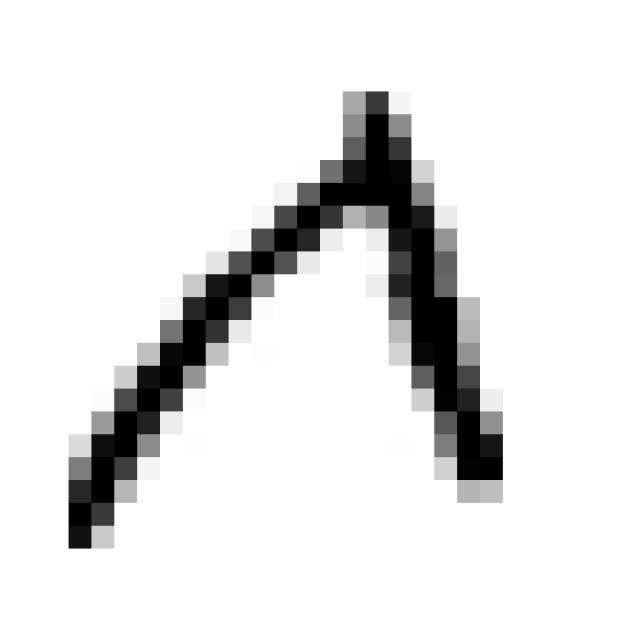8 -eight-: (50, 66, 523, 566)
